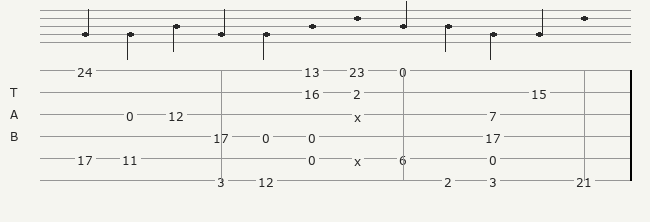0: (126, 108, 138, 121), (262, 130, 274, 143), (308, 152, 320, 165), (308, 130, 320, 143), (399, 64, 411, 77), (489, 152, 501, 165)
11: (122, 152, 142, 165)
12: (168, 108, 188, 121), (258, 174, 278, 187)
13: (304, 64, 324, 77)
15: (531, 86, 551, 99)
16: (304, 86, 324, 99)
17: (77, 152, 97, 165), (213, 130, 233, 143), (485, 130, 505, 143)
2: (353, 86, 365, 99), (444, 174, 456, 187)
21: (576, 174, 596, 187)
23: (349, 64, 369, 77)
24: (77, 64, 97, 77)
3: (217, 174, 229, 187), (489, 174, 501, 187)
6: (399, 152, 411, 165)
7: (489, 108, 501, 121)
x: (354, 153, 365, 164), (354, 109, 365, 120)
